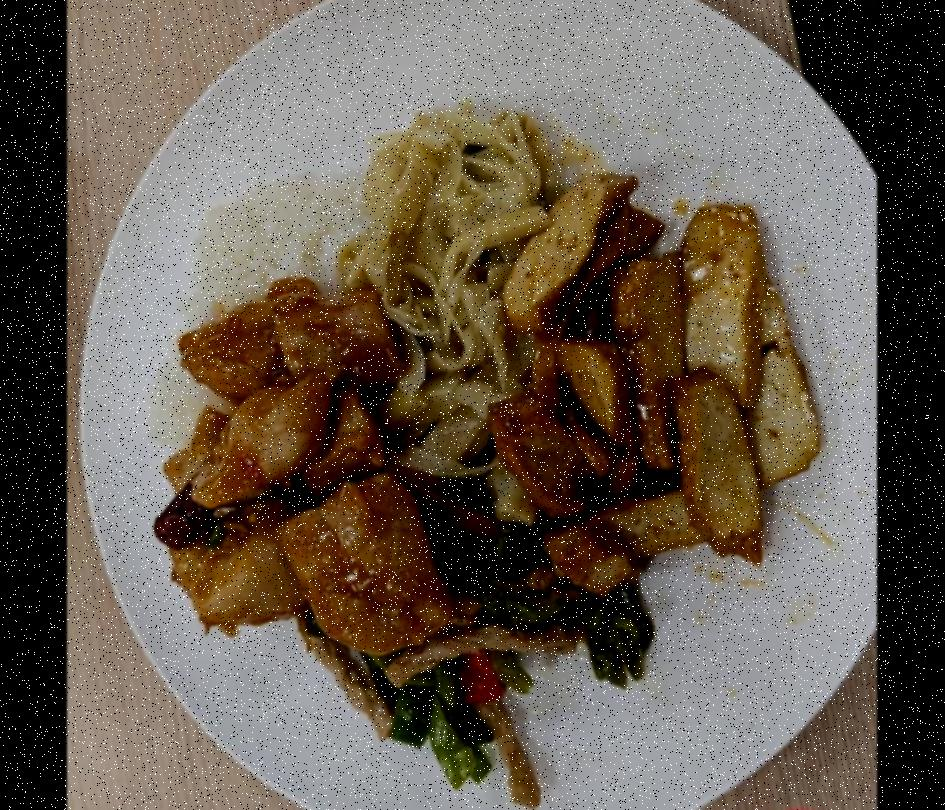plate: (79, 0, 877, 810)
side dish: (497, 176, 819, 596), (308, 474, 649, 790), (363, 100, 546, 479)
spicy chicken: (146, 278, 460, 654)
white rice: (148, 176, 382, 466)
